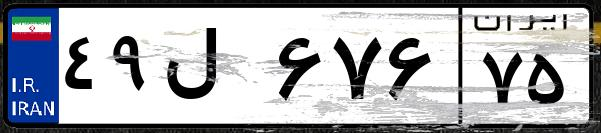4: (57, 26, 110, 100)
5: (525, 38, 570, 115)
6: (270, 28, 330, 110), (385, 28, 445, 110)
7: (330, 28, 385, 110), (475, 38, 525, 113)
9: (110, 28, 158, 98)
ل: (158, 20, 270, 120)
